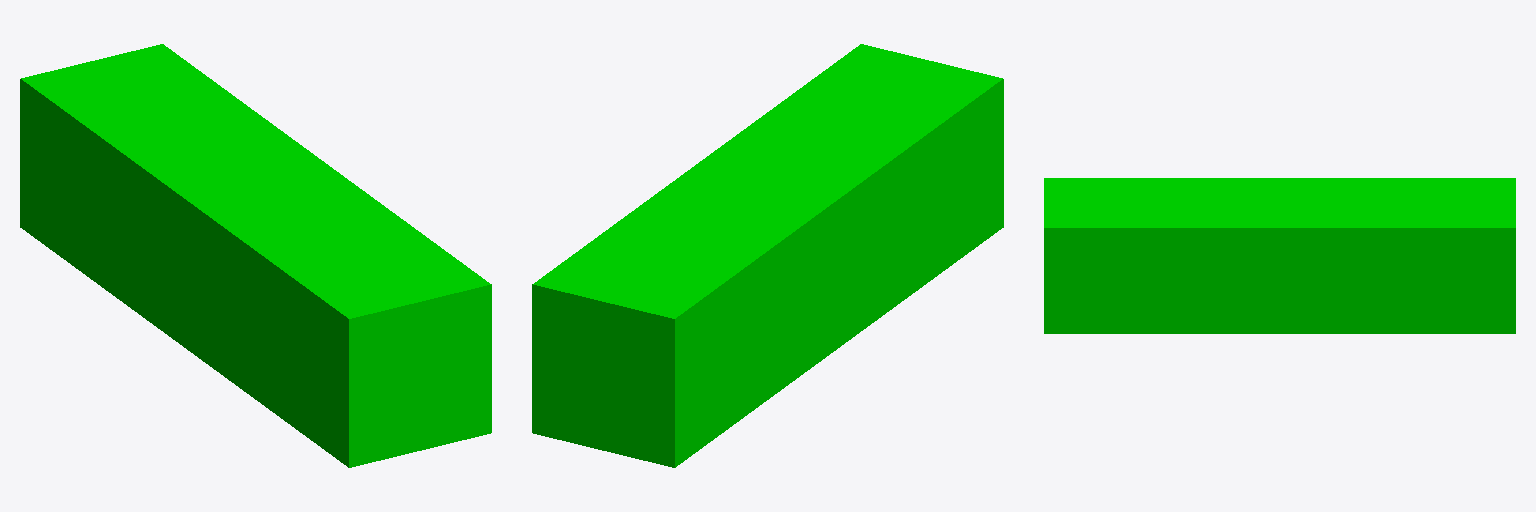
robot.urdf — goal:
<?xml version="1.0"?> 
<robot name="goal">
    <!-- Colors --> 
    <material name="green"> 
        <color rgba="0.0 0.9 0.0 0.5"/>
    </material>


    <!-- Base Frame of Goal --> 
    <link name="base_link">
        <visual> 
            <geometry> 
                <box size="0.25 1.0 0.25"/>
            </geometry>
            <material name="green"/>
        </visual>
        <collision>
            <geometry>
                <box size="0.25 1.0 0.25"/>
            </geometry>
      </collision>
    </link> 
    
</robot>

--- Render facts (derived) ---
3 views of the same robot in one strip: view 1: azimuth 30°, elevation 25°; view 2: azimuth 150°, elevation 25°; view 3: azimuth 270°, elevation 25° (orthographic).
Robot: goal — 1 links, 0 joints (none); root link base_link; default pose: all joints at 0.
Visible links, largest first — view 1: base_link; view 2: base_link; view 3: base_link.
Link boxes in pixels (left/top/right/bottom): base_link: left=20, top=44, right=491, bottom=467; base_link: left=532, top=44, right=1003, bottom=467; base_link: left=1044, top=178, right=1515, bottom=333.
Size in the robot's own frame: 0.25 by 1 by 0.25 metres.
Geometry: primitives only (box / cylinder / sphere), no mesh files.